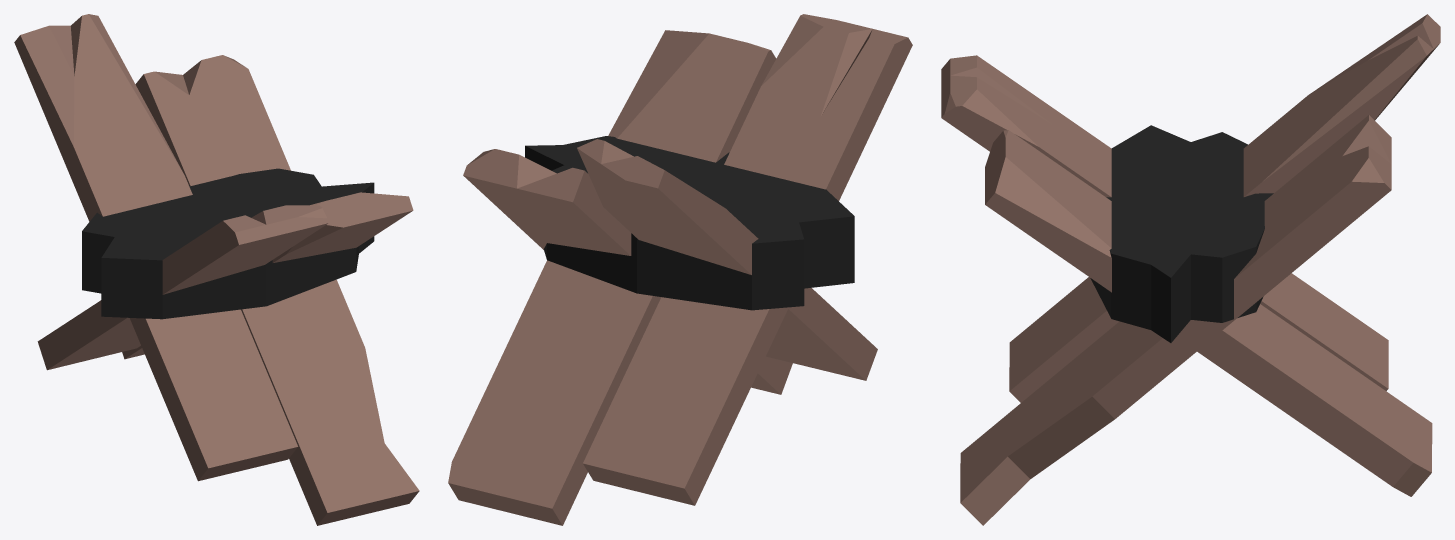
The model's file is Hole.fbx.
The picture shows the model from 3 angles, left to right: view 1: azimuth 30°, elevation 25°; view 2: azimuth 150°, elevation 25°; view 3: azimuth 270°, elevation 25°; orthographic projection. The views are drawn at different scales.
Visible parts, largest first — view 1: UpperFloor.001, Plane; view 2: UpperFloor.001, Plane; view 3: UpperFloor.001, Plane.
Boxes of the visible parts, x1,y1,x2,y2 form: UpperFloor.001: (14, 14, 419, 525); Plane: (82, 168, 374, 319); UpperFloor.001: (448, 14, 912, 525); Plane: (525, 136, 854, 310); UpperFloor.001: (941, 14, 1440, 525); Plane: (1090, 125, 1273, 342).
Size of the model in its own units: 138 by 177 by 191.
